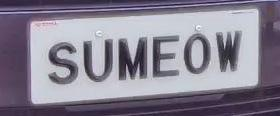0: (181, 28, 214, 82)
E: (147, 28, 183, 81)
M: (114, 33, 151, 89)
S: (43, 35, 82, 93)
U: (79, 33, 119, 87)
W: (213, 25, 244, 81)
